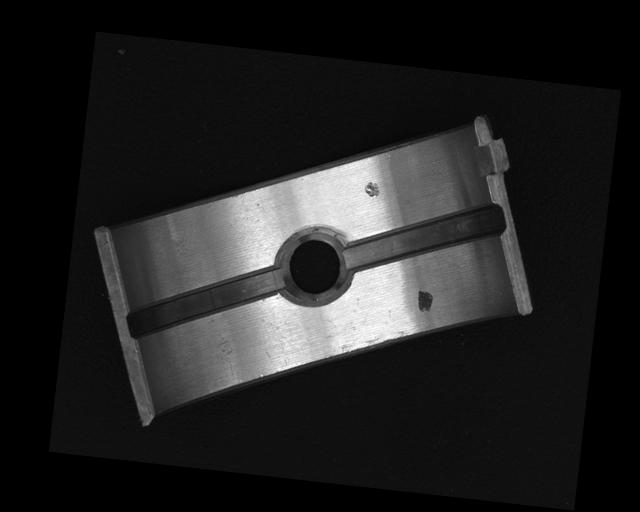blot: (415, 288, 435, 313)
bruise: (363, 179, 382, 198)
gap: (342, 187, 506, 289), (124, 251, 288, 352)
hole: (278, 224, 351, 303)
